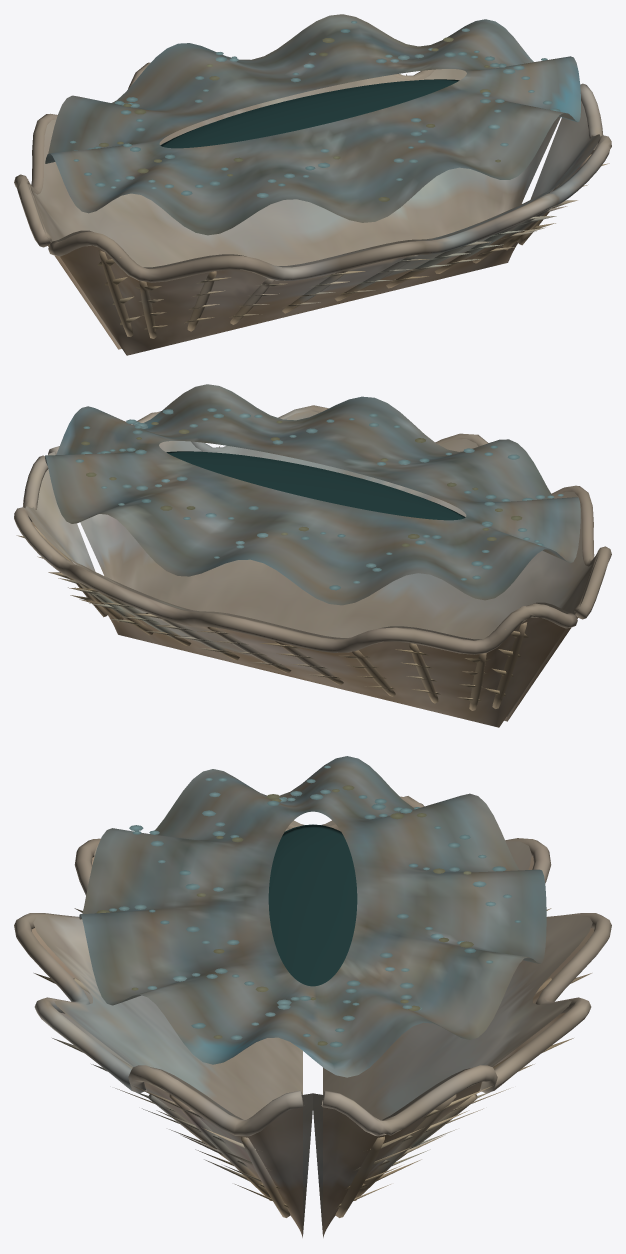
The model's file is tridacna_maxima_hybrid.glb.
The picture shows the model from 3 angles, top to bottom: view 1: azimuth 30°, elevation 25°; view 2: azimuth 150°, elevation 25°; view 3: azimuth 270°, elevation 25°; orthographic projection. The views are drawn at different scales.
Visible parts, largest first — view 1: LightFacingMantle, InnerValveLeft, OuterValveRight, ScallopedLipRight, CentralMantleGap, InnerValveRight, MantleBlueGreenMottles, DenseScutesRight, ScallopedLipLeft, RaisedRibRight11, RaisedRibRight09, RaisedRibRight06 (+6 smaller); view 2: LightFacingMantle, InnerValveRight, OuterValveLeft, ScallopedLipLeft, CentralMantleGap, MantleBlueGreenMottles, InnerValveLeft, ScallopedLipRight, DenseScutesLeft, RaisedRibLeft11, RaisedRibLeft09, RaisedRibLeft06 (+6 smaller); view 3: LightFacingMantle, InnerValveRight, InnerValveLeft, CentralMantleGap, ScallopedLipLeft, ScallopedLipRight, OuterValveLeft, OuterValveRight, MantleBlueGreenMottles, DenseScutesRight, DenseScutesLeft, RaisedRibLeft02 (+3 smaller).
Boxes of the visible parts, x1=… form: LightFacingMantle: x1=45, y1=14, x2=580, y2=235; InnerValveLeft: x1=27, y1=69, x2=560, y2=344; OuterValveRight: x1=60, y1=150, x2=594, y2=355; ScallopedLipRight: x1=48, y1=83, x2=611, y2=282; CentralMantleGap: x1=160, y1=79, x2=459, y2=148; InnerValveRight: x1=49, y1=102, x2=600, y2=268; MantleBlueGreenMottles: x1=70, y1=21, x2=560, y2=201; DenseScutesRight: x1=97, y1=163, x2=609, y2=329; ScallopedLipLeft: x1=14, y1=62, x2=434, y2=247; RaisedRibRight11: x1=98, y1=250, x2=133, y2=336; RaisedRibRight09: x1=187, y1=271, x2=216, y2=331; RaisedRibRight06: x1=334, y1=255, x2=418, y2=301; LightFacingMantle: x1=45, y1=384, x2=580, y2=605; InnerValveRight: x1=49, y1=410, x2=597, y2=716; OuterValveLeft: x1=31, y1=522, x2=565, y2=727; ScallopedLipLeft: x1=14, y1=455, x2=577, y2=654; CentralMantleGap: x1=166, y1=451, x2=465, y2=520; MantleBlueGreenMottles: x1=75, y1=408, x2=563, y2=590; InnerValveLeft: x1=25, y1=453, x2=575, y2=640; ScallopedLipRight: x1=48, y1=405, x2=611, y2=619; DenseScutesLeft: x1=16, y1=535, x2=528, y2=701; RaisedRibLeft11: x1=492, y1=622, x2=527, y2=708; RaisedRibLeft09: x1=409, y1=643, x2=438, y2=703; RaisedRibLeft06: x1=207, y1=627, x2=291, y2=673; LightFacingMantle: x1=79, y1=756, x2=546, y2=1077; InnerValveRight: x1=33, y1=820, x2=312, y2=1233; InnerValveLeft: x1=313, y1=820, x2=592, y2=1233; CentralMantleGap: x1=268, y1=824, x2=357, y2=986; ScallopedLipLeft: x1=321, y1=796, x2=611, y2=1136; ScallopedLipRight: x1=14, y1=824, x2=304, y2=1136; OuterValveLeft: x1=323, y1=856, x2=594, y2=1237; OuterValveRight: x1=31, y1=856, x2=302, y2=1237; MantleBlueGreenMottles: x1=96, y1=765, x2=521, y2=1047; DenseScutesRight: x1=34, y1=908, x2=289, y2=1208; DenseScutesLeft: x1=336, y1=908, x2=591, y2=1208; RaisedRibLeft02: x1=354, y1=1094, x2=456, y2=1200.
Size of the model in its own units: 0.2969 by 0.1065 by 0.2431.
